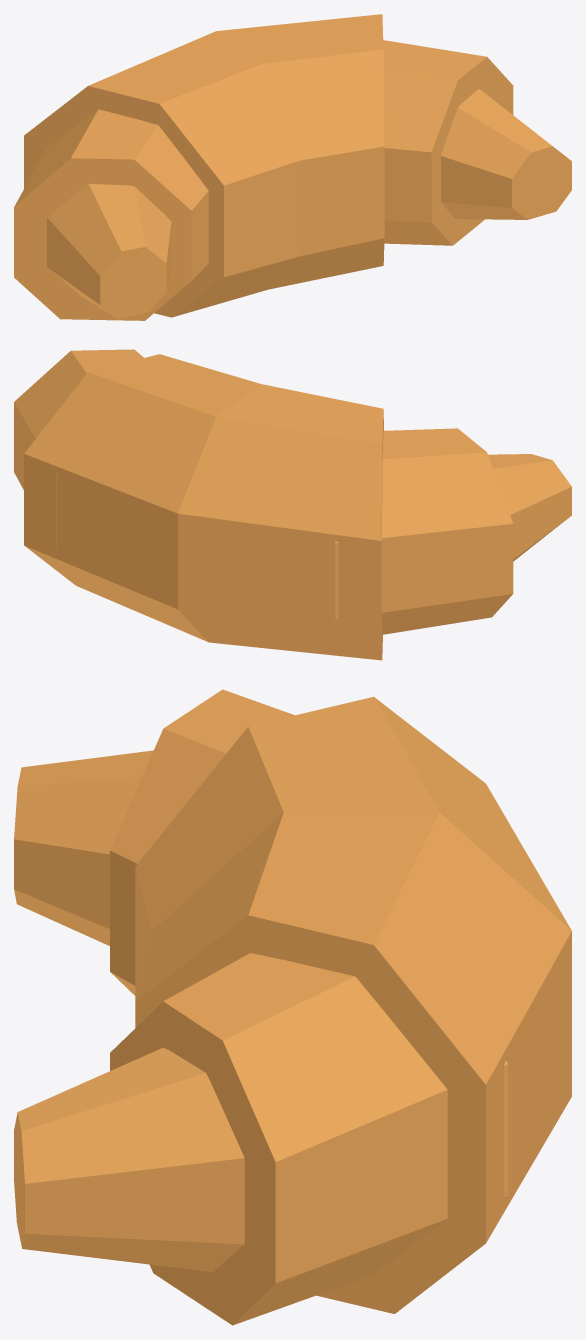
File: Croissant.glb
3 views of the same model, one above another, from view 1: azimuth 30°, elevation 25°; view 2: azimuth 150°, elevation 25°; view 3: azimuth 270°, elevation 25° (orthographic). The views are drawn at different scales.
Visible parts, largest first — view 1: Croissant; view 2: Croissant; view 3: Croissant.
Part boxes in pixels (x1=…): Croissant: x1=14, y1=14, x2=571, y2=320; Croissant: x1=14, y1=349, x2=571, y2=660; Croissant: x1=14, y1=689, x2=571, y2=1325.
Bounding box in the file's own units: 130 × 54.98 × 73.05.
